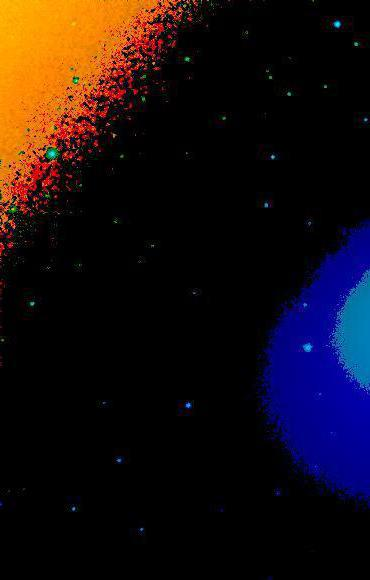star: (170, 283, 200, 313)
